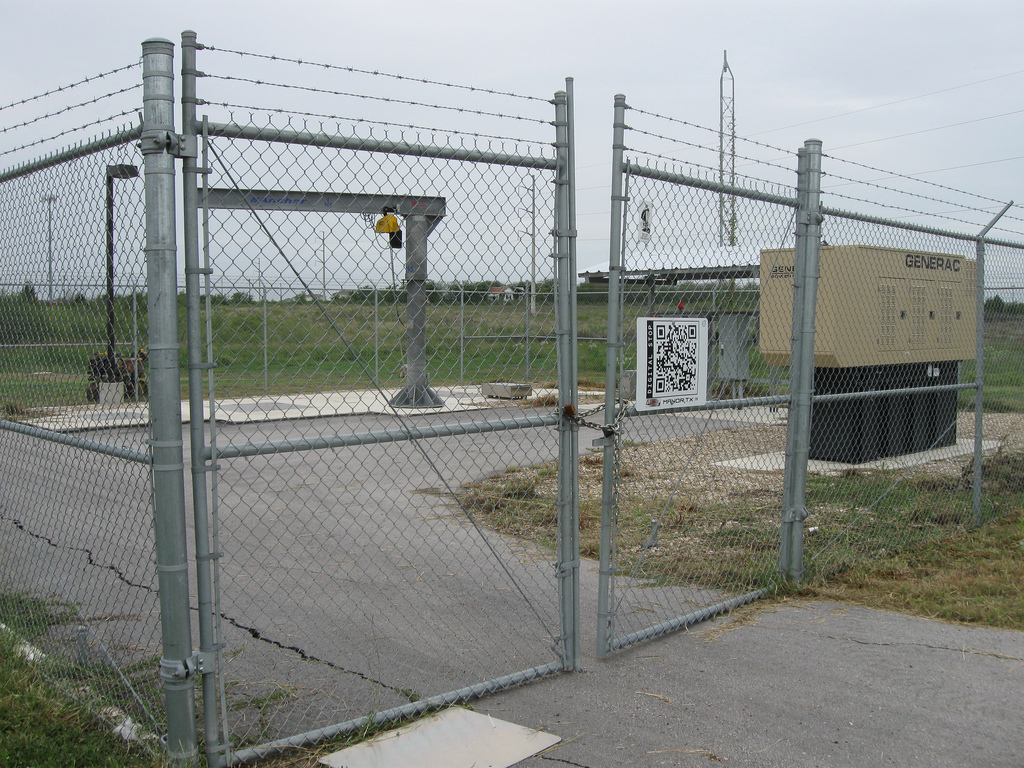QR-CODE: (656, 325, 695, 392)
